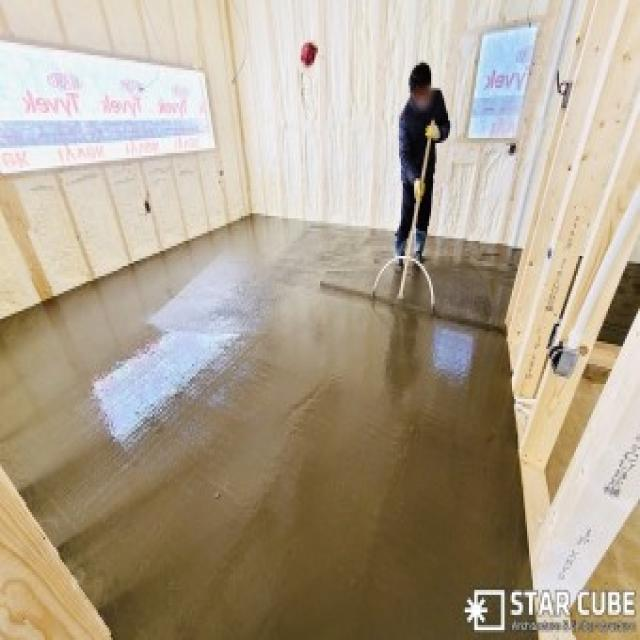long handle float: (320, 118, 507, 337)
rainboot: (394, 233, 406, 271), (414, 228, 427, 262)
stud: (505, 0, 640, 640)
